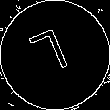L_SE: (31, 26, 79, 84)
